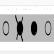correct: (29, 17, 38, 38)
not correct: (13, 12, 25, 46)
